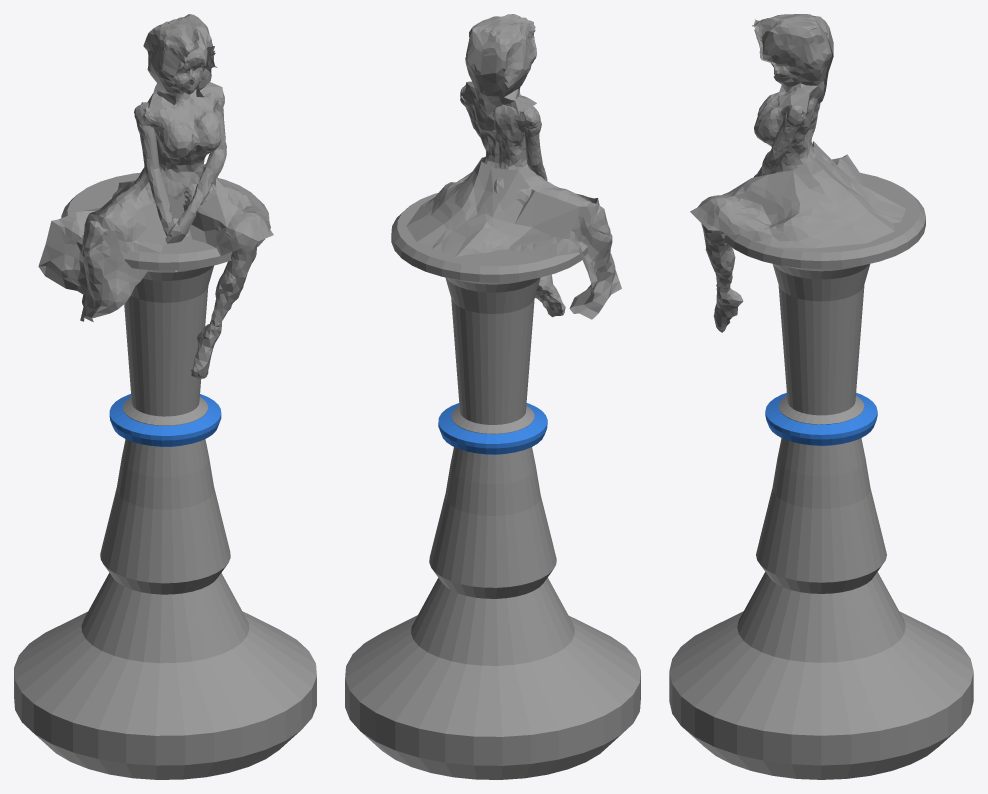
The model's file is statue.fbx.
3 views of the same model, side by side, from view 1: azimuth 30°, elevation 25°; view 2: azimuth 150°, elevation 25°; view 3: azimuth 270°, elevation 25° (orthographic). The views are drawn at different scales.
Parts seen in each view (by area): view 1: base, figure; view 2: base, figure; view 3: base, figure.
Part boxes in pixels (x1,y1,x2,y2): base: (14,172,316,779); figure: (38,14,273,378); base: (345,193,640,779); figure: (406,14,621,319); base: (669,172,973,779); figure: (690,14,905,332).
Bounding box in the file's own units: 494 × 1278 × 494.
